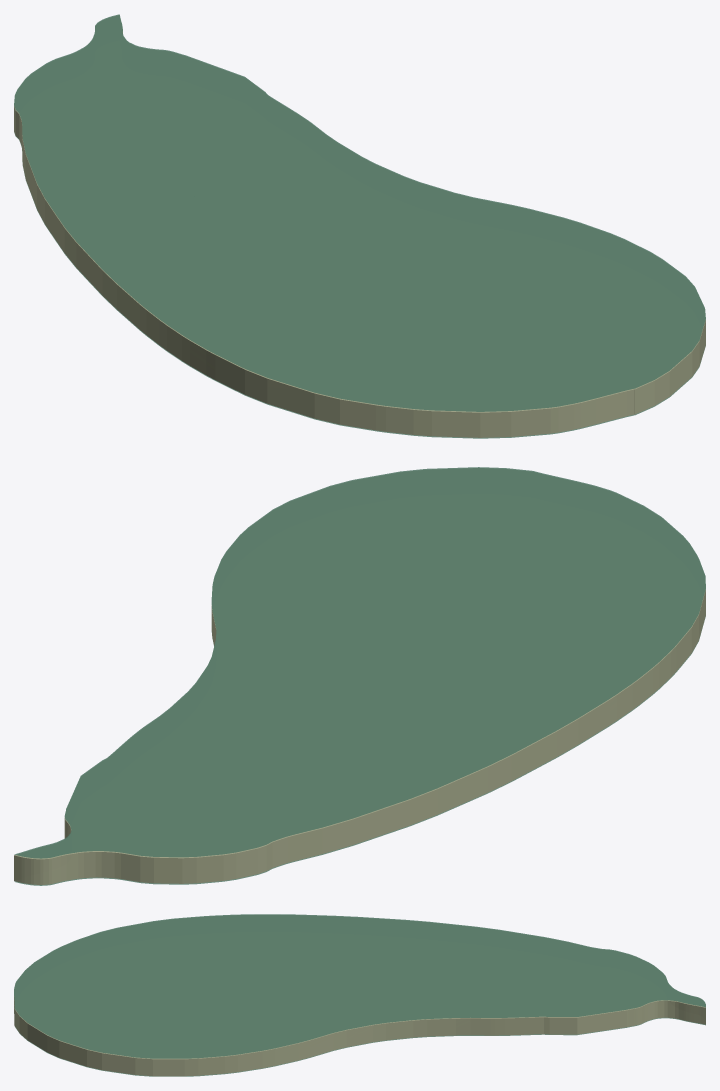
Rendered from eggplant-sao.glb.
The picture shows the model from 3 angles, top to bottom: view 1: azimuth 30°, elevation 25°; view 2: azimuth 150°, elevation 25°; view 3: azimuth 270°, elevation 25°; orthographic projection. The views are drawn at different scales.
Parts seen in each view (by area): view 1: =>[0:1:1:7], =>[0:1:1:5]; view 2: =>[0:1:1:7], =>[0:1:1:5]; view 3: =>[0:1:1:7], =>[0:1:1:5].
Boxes of the visible parts, x1,y1,x2,y2 form: =>[0:1:1:7]: (14, 16, 705, 437); =>[0:1:1:5]: (14, 14, 705, 438); =>[0:1:1:7]: (14, 468, 705, 884); =>[0:1:1:5]: (14, 467, 705, 885); =>[0:1:1:7]: (14, 915, 705, 1076); =>[0:1:1:5]: (14, 914, 705, 1076).
Size of the model in its own units: 0.0276 by 0.00163 by 0.0559.
4 materials, 4 textured.
